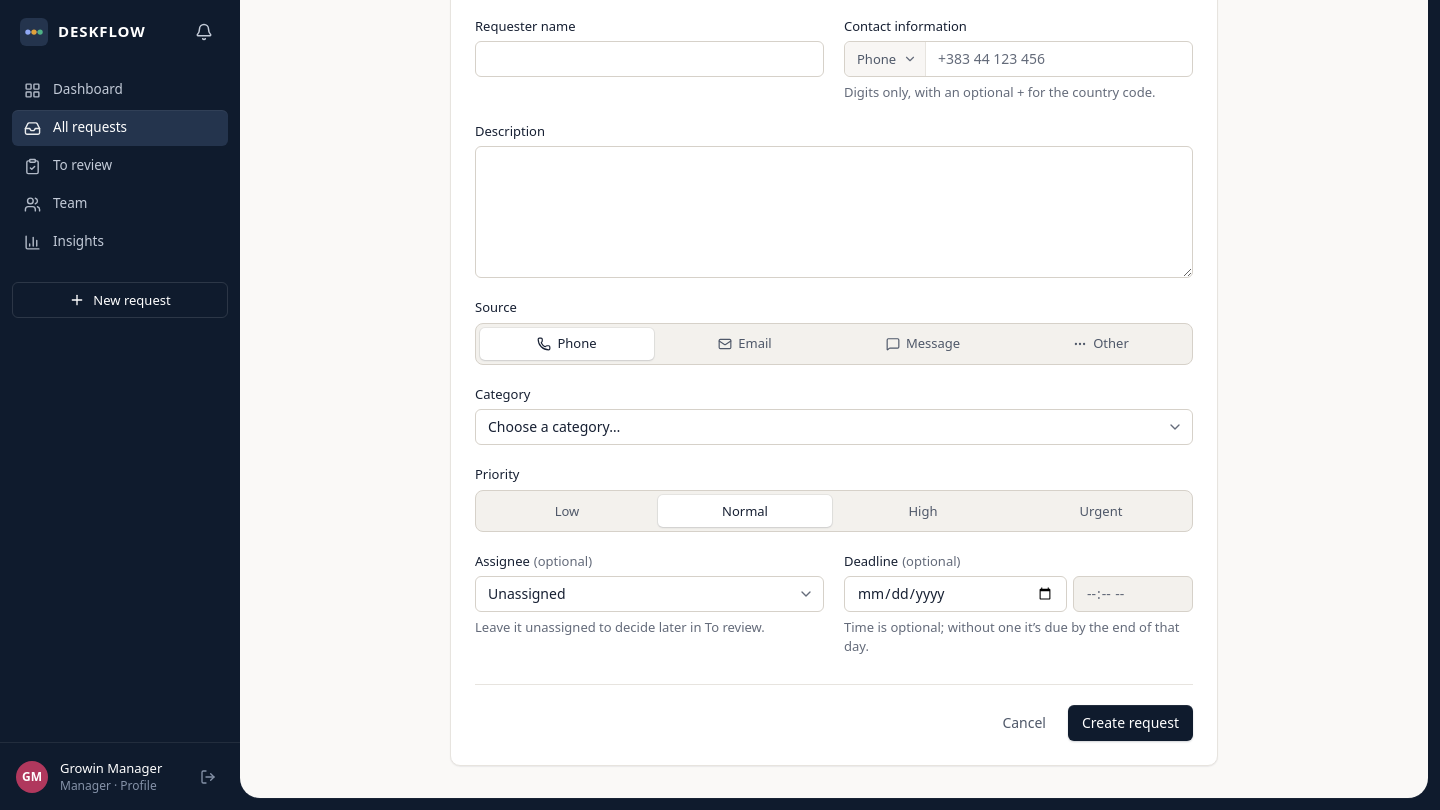
create request › shows validation errors and does not submit an empty form
(page scrolled)
Click the button "Create request".
click(1130, 722)  # box x1=1068 y1=704 x2=1193 y2=740
(page scrolled)
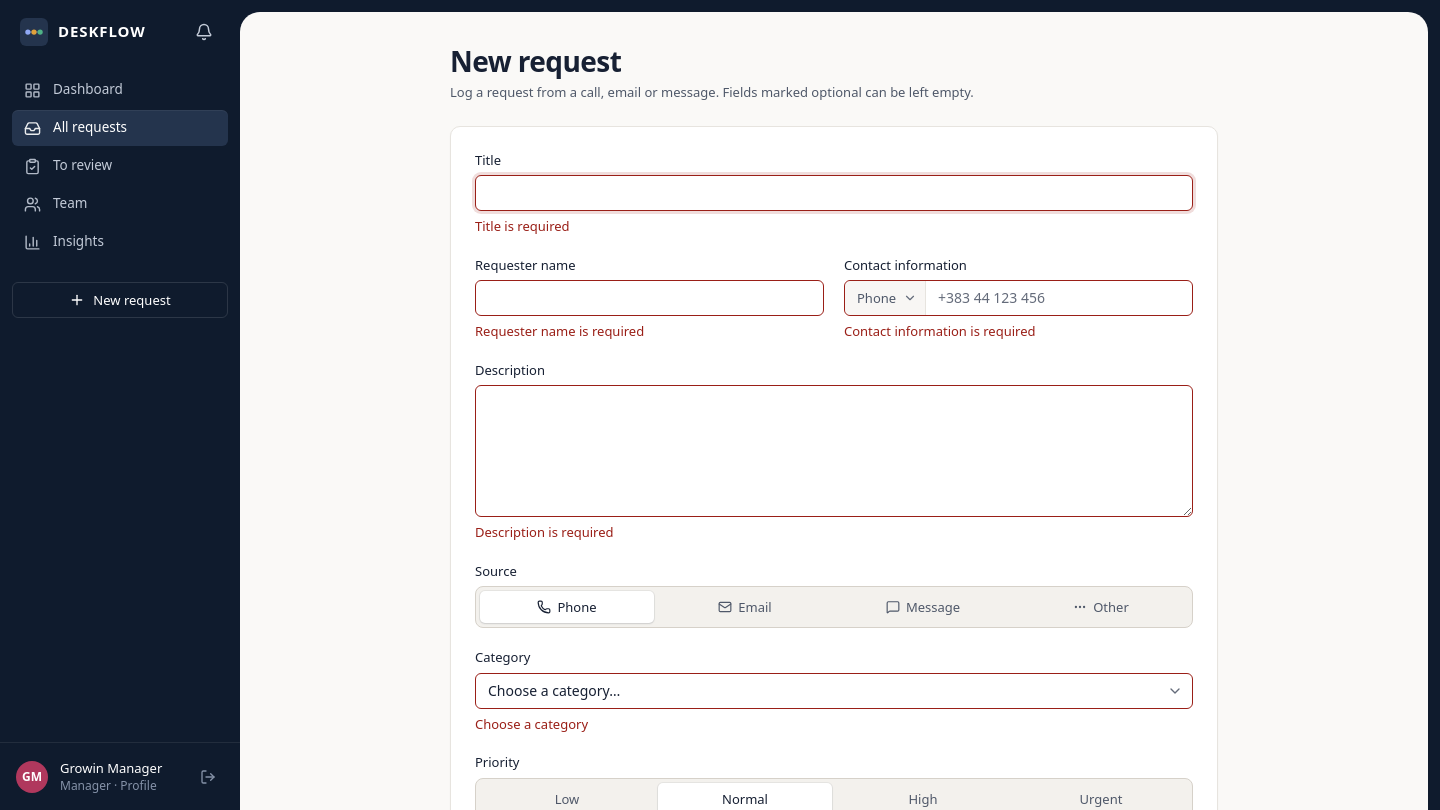
Result: the text "Title is required" is shown at x1=475 y1=217 x2=570 y2=235
Result: the text "Requester name is required" is shown at x1=475 y1=322 x2=644 y2=340
Result: the text "Description is required" is shown at x1=475 y1=523 x2=614 y2=541
